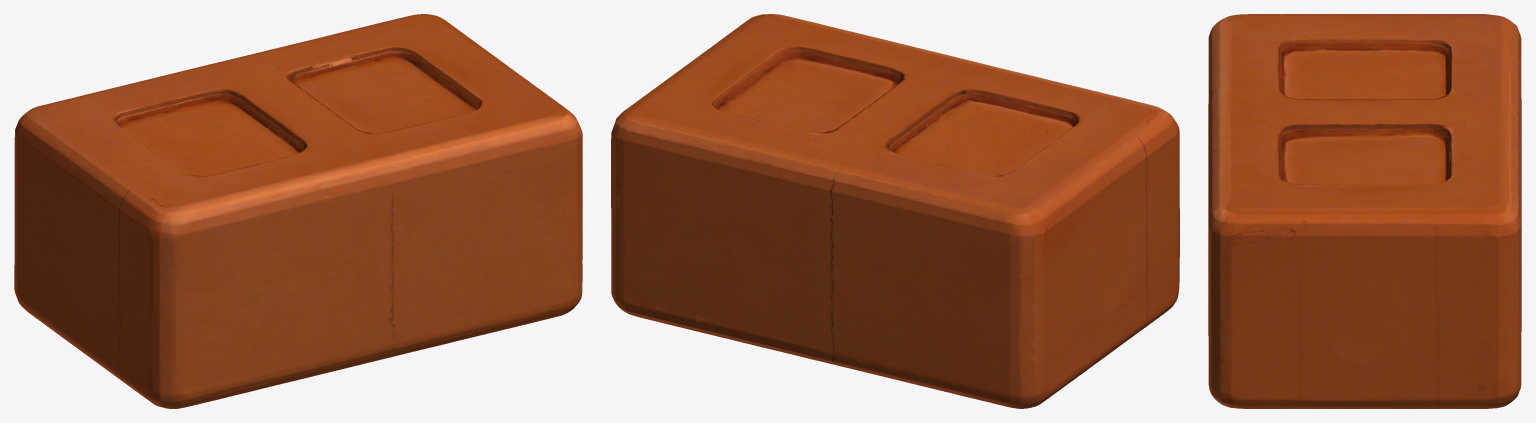
The model's file is brick.glb.
3 views of the same model, side by side, from view 1: azimuth 30°, elevation 25°; view 2: azimuth 150°, elevation 25°; view 3: azimuth 270°, elevation 25° (orthographic).
Bounding box in the file's own units: 2 × 0.8903 × 1.27.
Materials: 1 (1 with a texture image).
